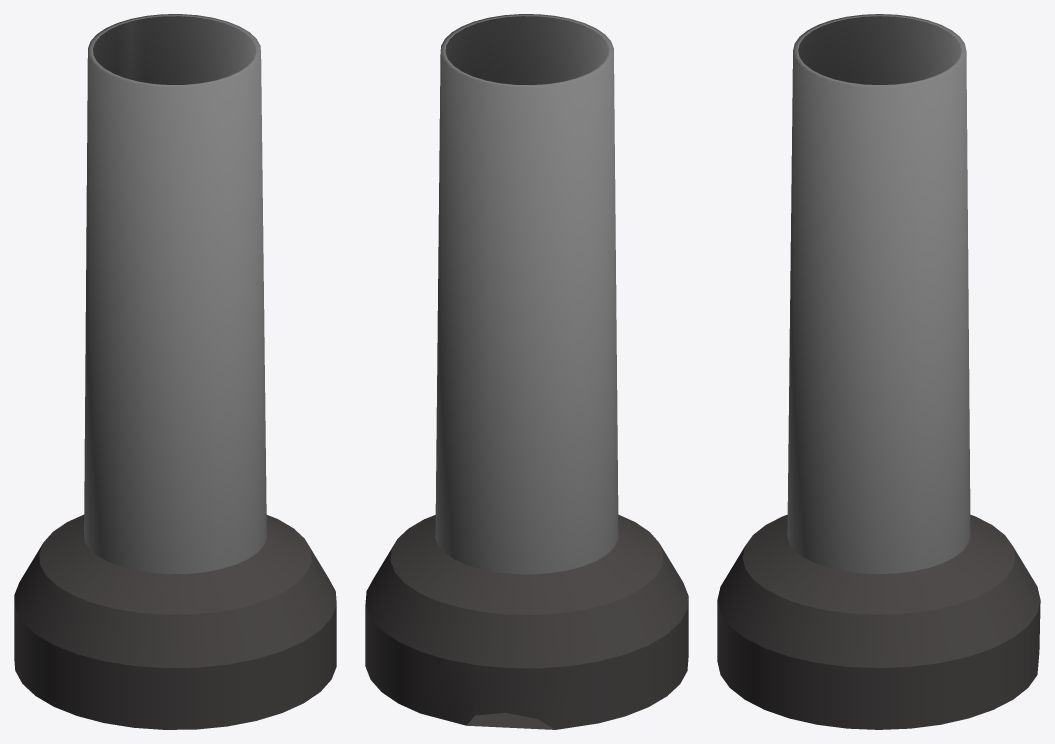
File: spotlight-base.fbx
3 views of the same model, side by side, from view 1: azimuth 30°, elevation 25°; view 2: azimuth 150°, elevation 25°; view 3: azimuth 270°, elevation 25° (orthographic).
Visible parts, largest first — view 1: base; view 2: base; view 3: base.
Boxes of the visible parts, left/top/right/bottom form: base: left=14, top=14, right=336, bottom=729; base: left=365, top=14, right=688, bottom=729; base: left=717, top=14, right=1040, bottom=729.
Size of the model in its own units: 44.26 by 92.3 by 44.26.
